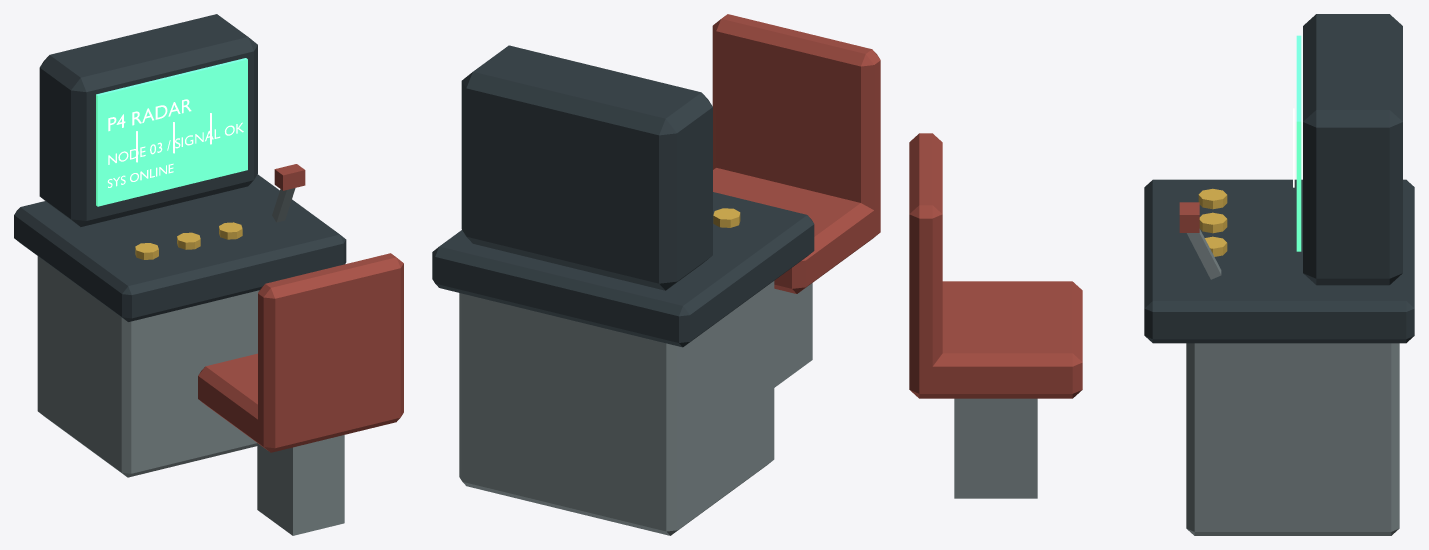
File: DeadRail_Radar_Console.fbx
3 renders of one model, left to right at view 1: azimuth 30°, elevation 25°; view 2: azimuth 150°, elevation 25°; view 3: azimuth 270°, elevation 25°, orthographic. The views are drawn at different scales.
Parts seen in each view (by area): view 1: Console_Base.007, Console_Desk.007, Seat_Back.007, CRT_Housing.007, CRT_Screen.007, Operator_Seat.007, Seat_Pedestal.007, Lever_Grip.007, CRT_Status.007, CRT_Title.007, Lever.007; view 2: Console_Base.007, CRT_Housing.007, Seat_Back.007, Console_Desk.007, Operator_Seat.007, Seat_Pedestal.007; view 3: Console_Base.007, Console_Desk.007, CRT_Housing.007, Operator_Seat.007, Seat_Pedestal.007, Seat_Back.007, CRT_Screen.007, Lever.007, Lever_Grip.007.
Boxes of the visible parts, left/top/right/bottom form: Console_Base.007: left=37, top=256, right=259, bottom=477; Console_Desk.007: left=14, top=174, right=346, bottom=321; Seat_Back.007: left=258, top=253, right=403, bottom=424; CRT_Housing.007: left=39, top=14, right=257, bottom=226; CRT_Screen.007: left=96, top=58, right=247, bottom=206; Operator_Seat.007: left=198, top=353, right=403, bottom=452; Seat_Pedestal.007: left=257, top=435, right=344, bottom=535; Lever_Grip.007: left=274, top=164, right=305, bottom=190; CRT_Status.007: left=108, top=122, right=243, bottom=164; CRT_Title.007: left=108, top=99, right=191, bottom=131; Lever.007: left=272, top=188, right=295, bottom=222; Console_Base.007: left=459, top=281, right=774, bottom=535; CRT_Housing.007: left=461, top=45, right=712, bottom=290; Seat_Back.007: left=712, top=14, right=880, bottom=210; Console_Desk.007: left=432, top=192, right=814, bottom=347; Operator_Seat.007: left=713, top=168, right=880, bottom=293; Seat_Pedestal.007: left=774, top=283, right=812, bottom=387; Console_Base.007: left=1186, top=343, right=1399, bottom=535; Console_Desk.007: left=1144, top=179, right=1414, bottom=343; CRT_Housing.007: left=1303, top=14, right=1402, bottom=285; Operator_Seat.007: left=909, top=281, right=1082, bottom=398; Seat_Pedestal.007: left=954, top=398, right=1037, bottom=498; Seat_Back.007: left=909, top=133, right=942, bottom=366; CRT_Screen.007: left=1296, top=35, right=1301, bottom=251; Lever.007: left=1187, top=229, right=1221, bottom=279; Lever_Grip.007: left=1179, top=202, right=1199, bottom=232.
Size of the model in its own units: 0.91 by 1.4 by 1.52.
